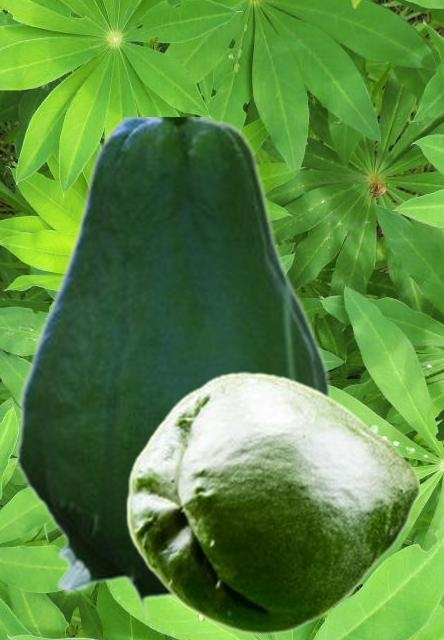sayote: (15, 117, 335, 620), (125, 371, 420, 634)
